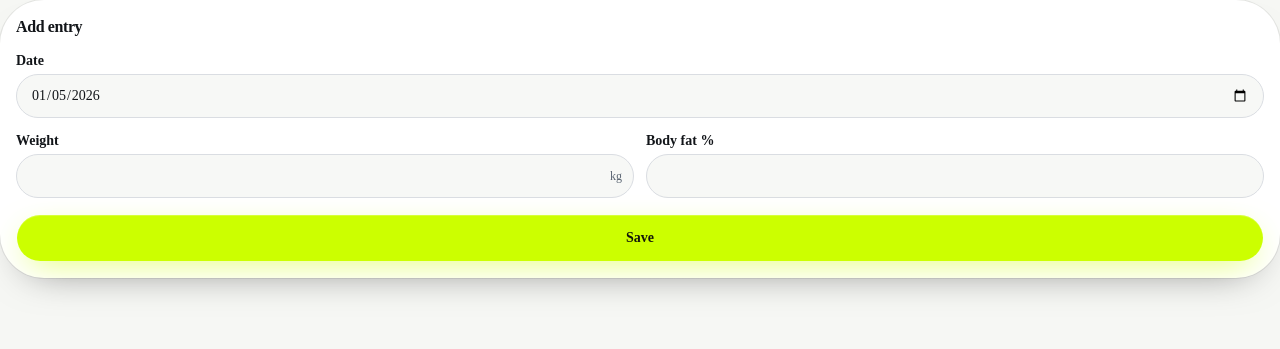
Test: BodyMetricForm › requires at least one measurement
This screenshot has width=1280, height=349.
Click the button "Save" at (640, 238), box [16, 214, 1264, 262]
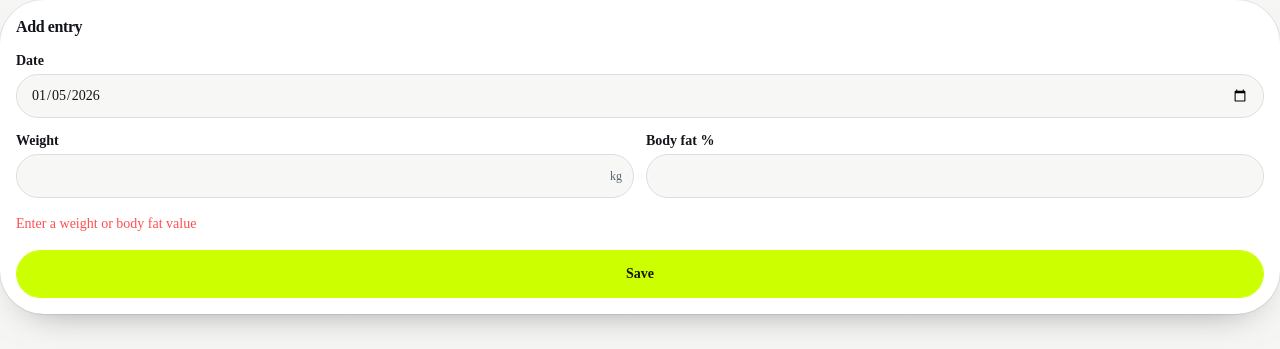
expect the text "Enter a weight or body fat value" is shown: met, box [16, 216, 196, 231]
